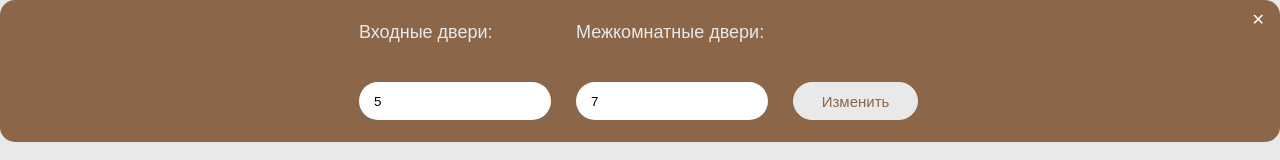
it: ChangeDoorsLimitModal boundary cases › пустое значение преобразуется в 0
This screenshot has width=1280, height=160.
Clear the number field labelled "Входные двери:" at (455, 101), box [359,82,551,120]
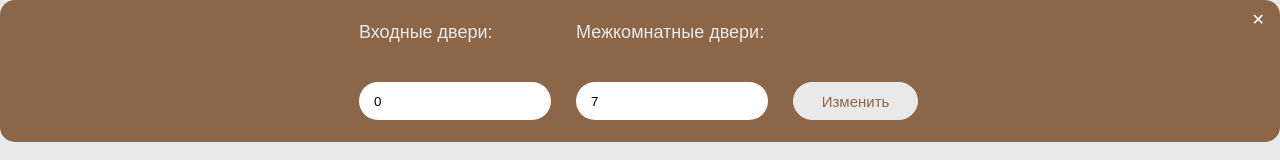
expect the number field labelled "Входные двери:" holds "0": met, box [359,82,551,120]
